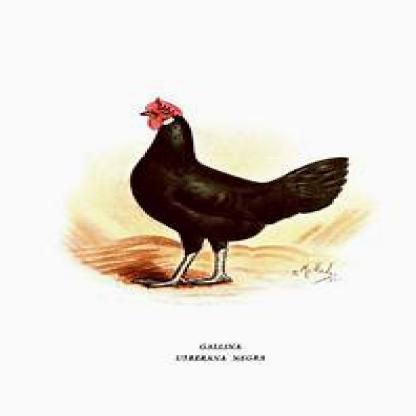chicken: (126, 96, 351, 290)
